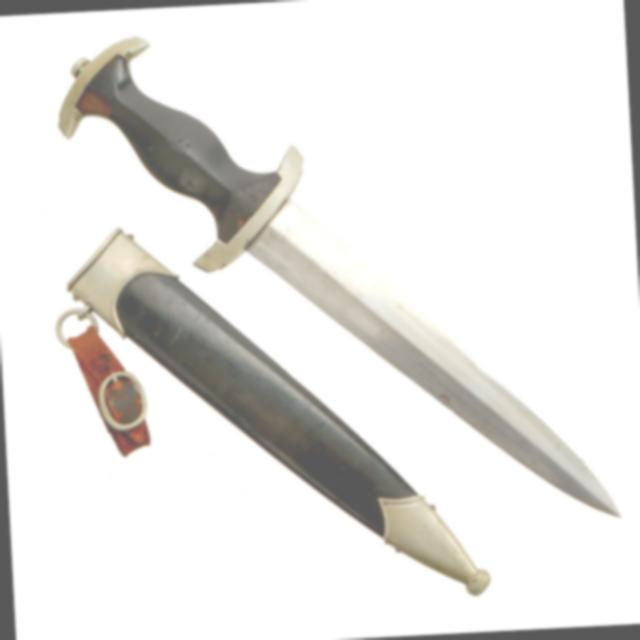short sword: (31, 0, 635, 629)
